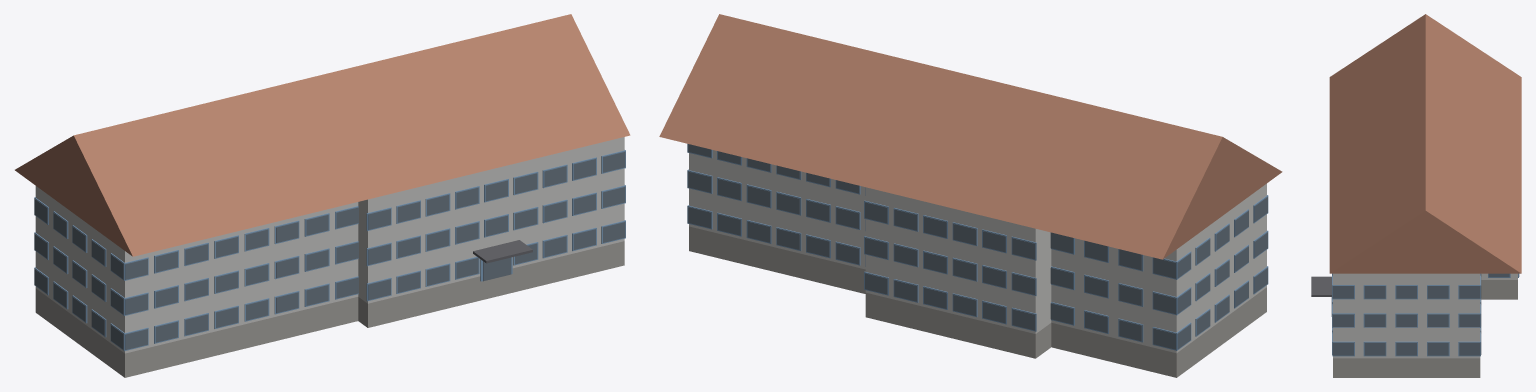
Rendered from landmark-kandern-bfa-2.glb.
The picture shows the model from 3 angles, left to right: view 1: azimuth 30°, elevation 25°; view 2: azimuth 150°, elevation 25°; view 3: azimuth 270°, elevation 25°; orthographic projection. The views are drawn at different scales.
Parts seen in each view (by area): view 1: building; view 2: building; view 3: building.
Boxes of the visible parts, x1=… form: building: x1=15, y1=14, x2=630, y2=377; building: x1=659, y1=14, x2=1282, y2=377; building: x1=1311, y1=14, x2=1521, y2=377.
Size of the model in its own units: 53.39 by 21.4 by 24.14.
